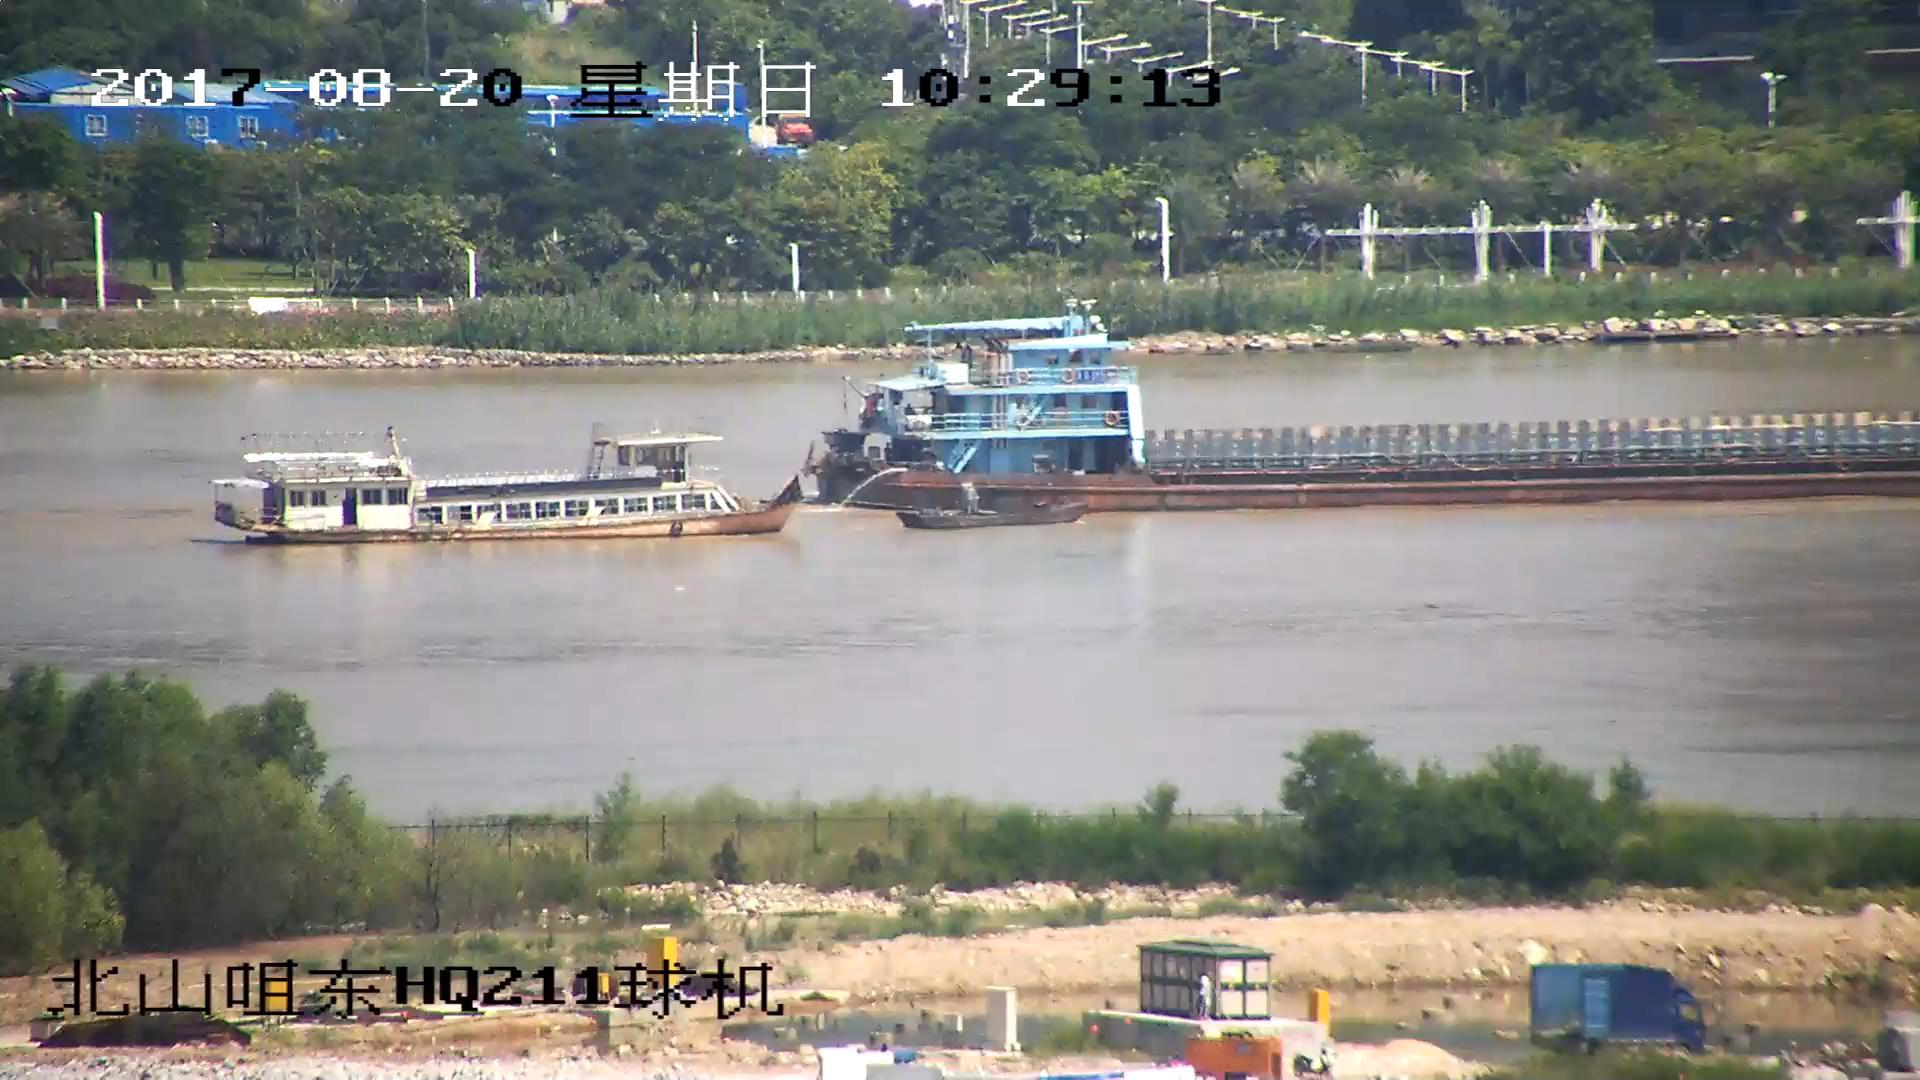Ship: (779, 301, 1920, 516), (200, 426, 808, 547), (903, 479, 1095, 527)
